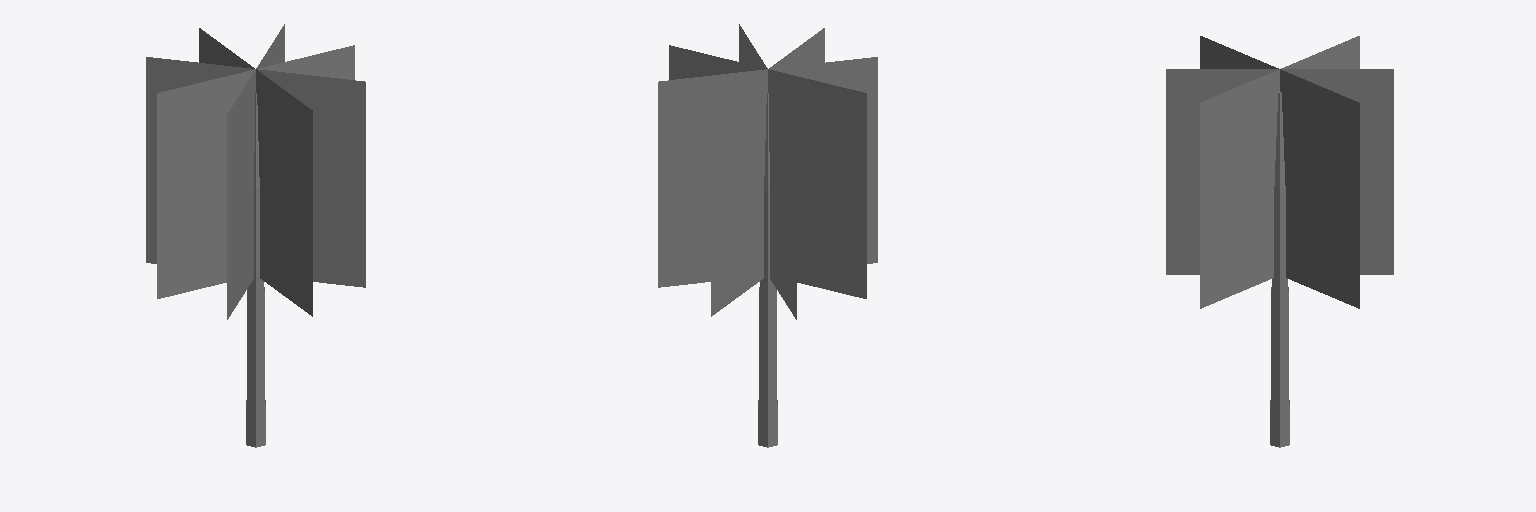
File: tree.obj
3 views of the same model, side by side, from view 1: azimuth 30°, elevation 25°; view 2: azimuth 150°, elevation 25°; view 3: azimuth 270°, elevation 25° (orthographic).
Parts seen in each view (by area): view 1: Plane001, Plane004, Plane002, Plane003, Cylinder001; view 2: Plane001, Plane003, Plane002, Plane004, Cylinder001; view 3: Plane003, Plane004, Plane002, Cylinder001.
Boxes of the visible parts, <box> form: Plane001: <box>157,45,354,298</box>; Plane004: <box>146,57,365,287</box>; Plane002: <box>199,28,312,316</box>; Plane003: <box>227,24,284,319</box>; Cylinder001: <box>246,93,265,447</box>; Plane001: <box>669,45,866,298</box>; Plane003: <box>658,57,877,287</box>; Plane002: <box>711,28,824,316</box>; Plane004: <box>739,24,796,319</box>; Cylinder001: <box>758,93,777,447</box>; Plane003: <box>1200,36,1359,308</box>; Plane004: <box>1200,36,1359,308</box>; Plane002: <box>1166,69,1393,274</box>; Cylinder001: <box>1270,92,1289,447</box>.
Size of the model in its own units: 40 by 72.47 by 40.